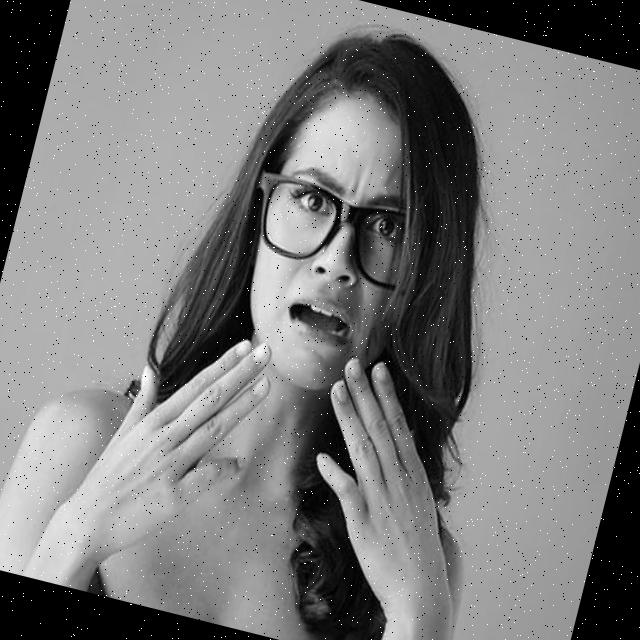Disgust: (223, 76, 455, 409)
